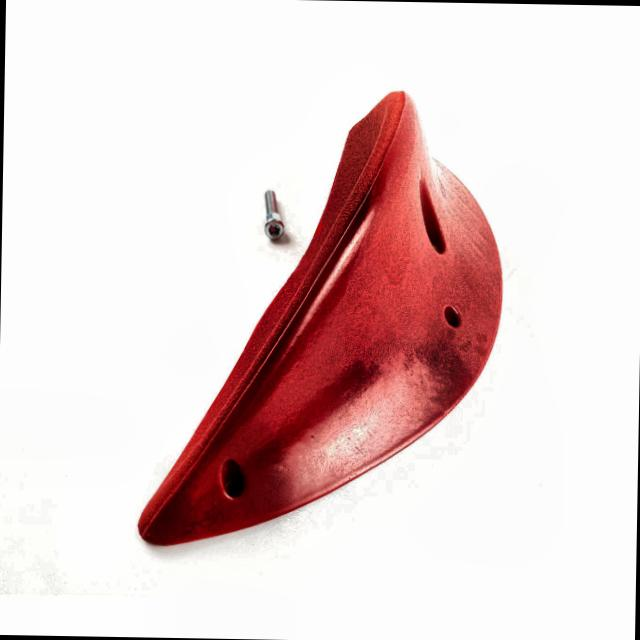Hold: (134, 85, 506, 554)
